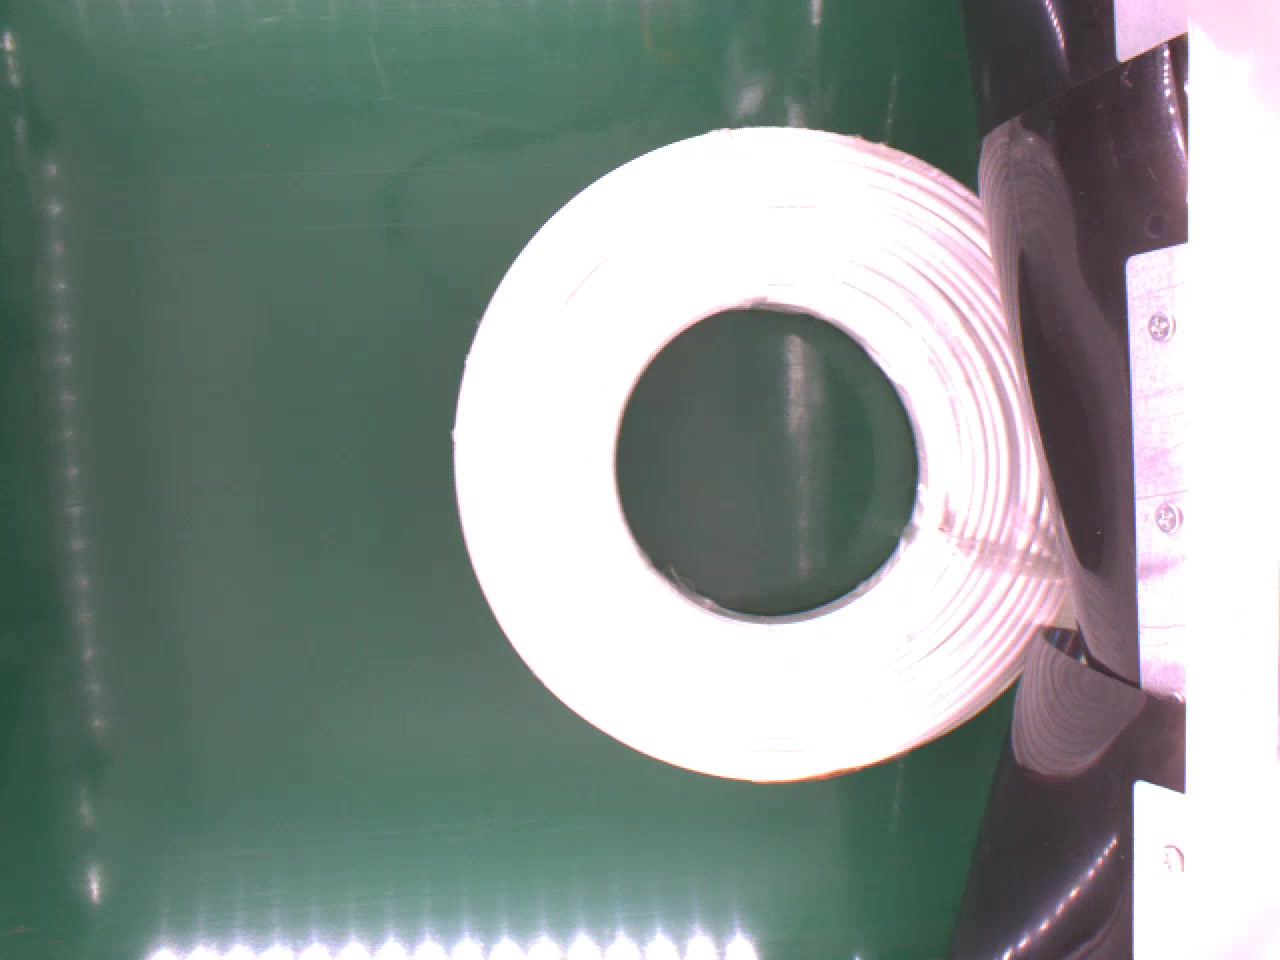white: (452, 124, 1078, 787)
